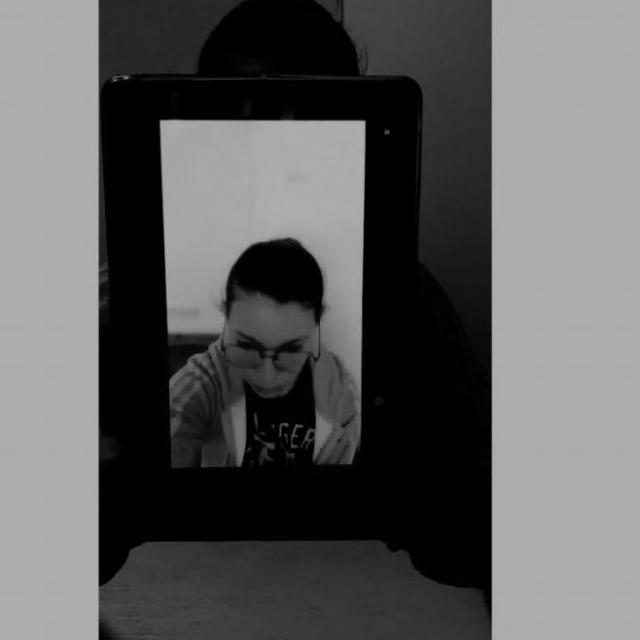fake: (99, 69, 423, 525)
